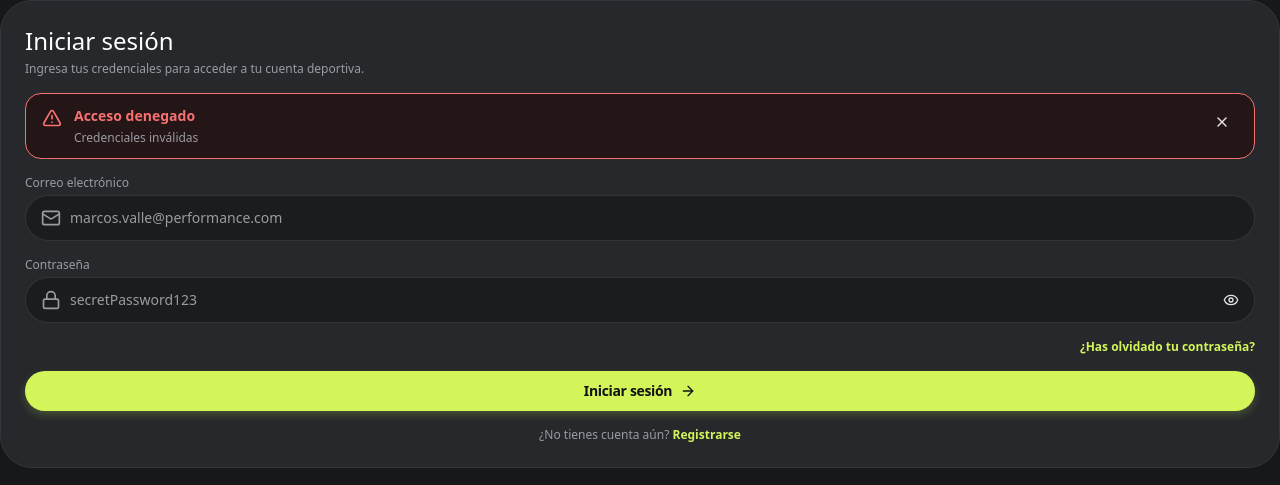
Test case: LoginForm › muestra el error del servidor en un Alert y lo cierra
Check: the message shows "Credenciales inválidas", box [74,129,198,146]
Click the button named "Cerrar aviso". click: (1222, 122)
box: [1206,106,1238,138]
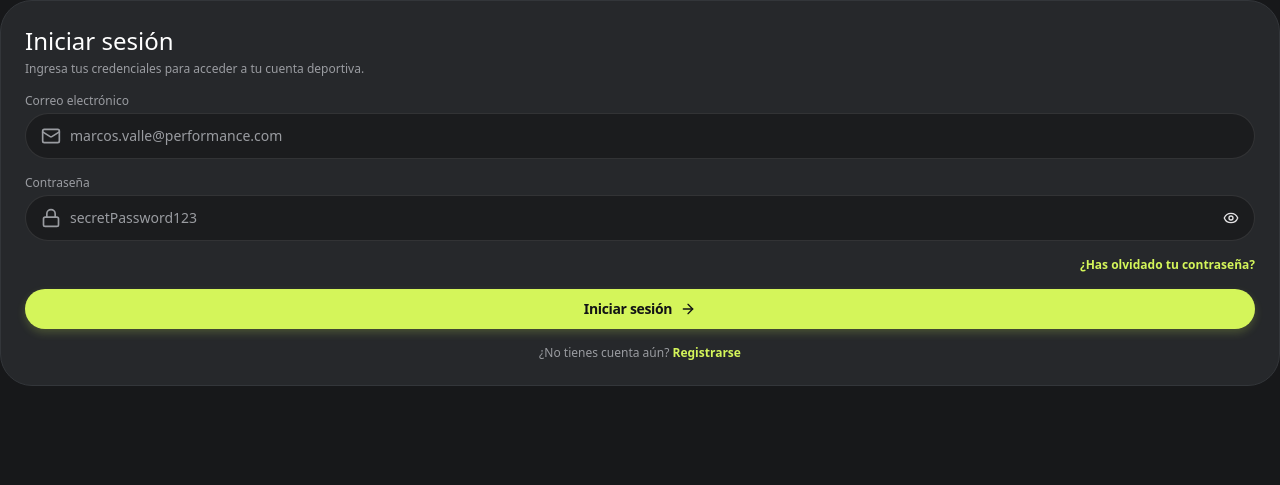
Check: the message "Acceso denegado Credenciales inválidas" is gone
